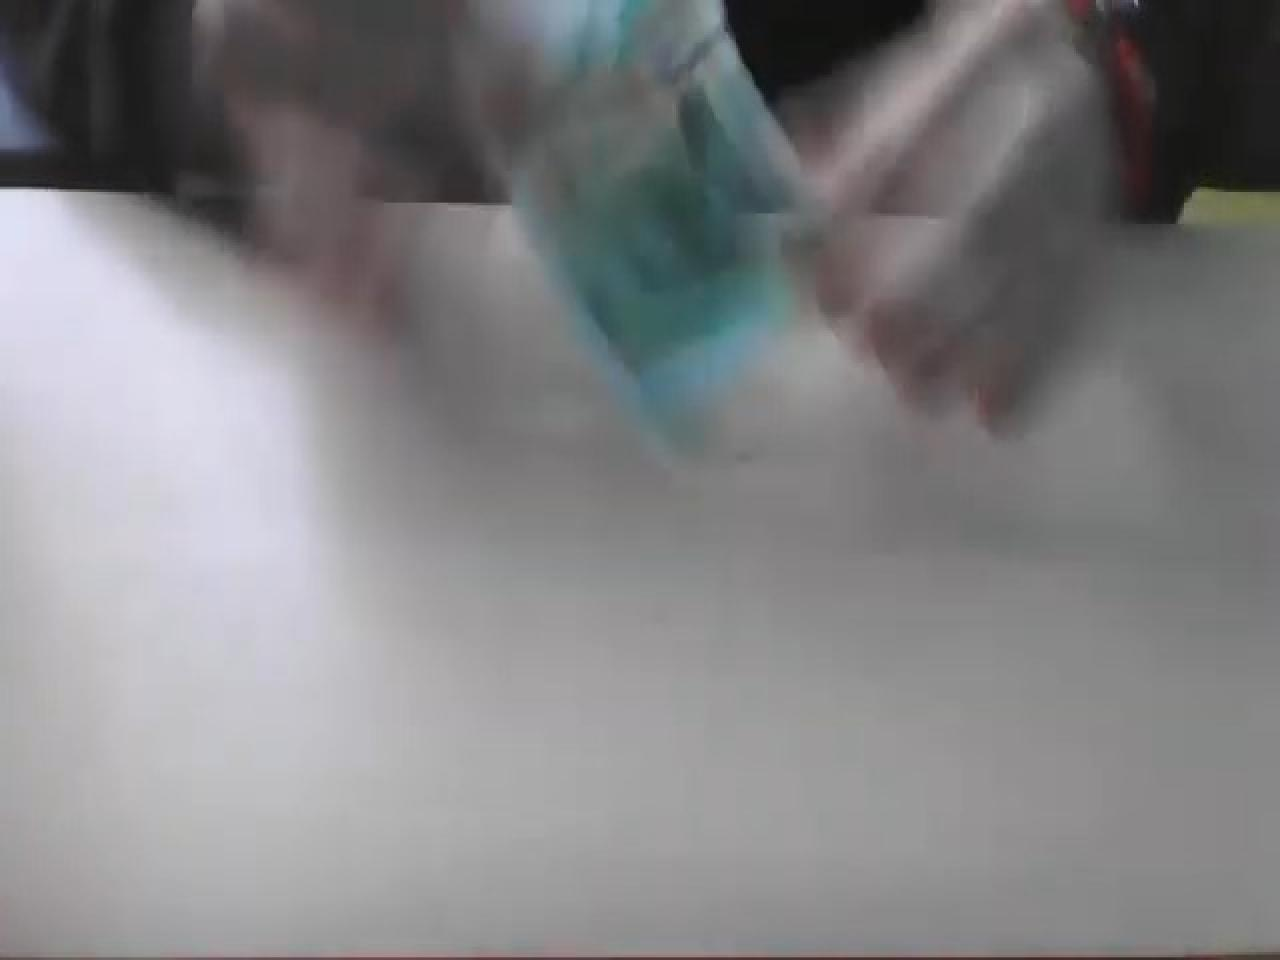100leva: (4, 0, 1272, 469), (1064, 0, 1276, 227)
